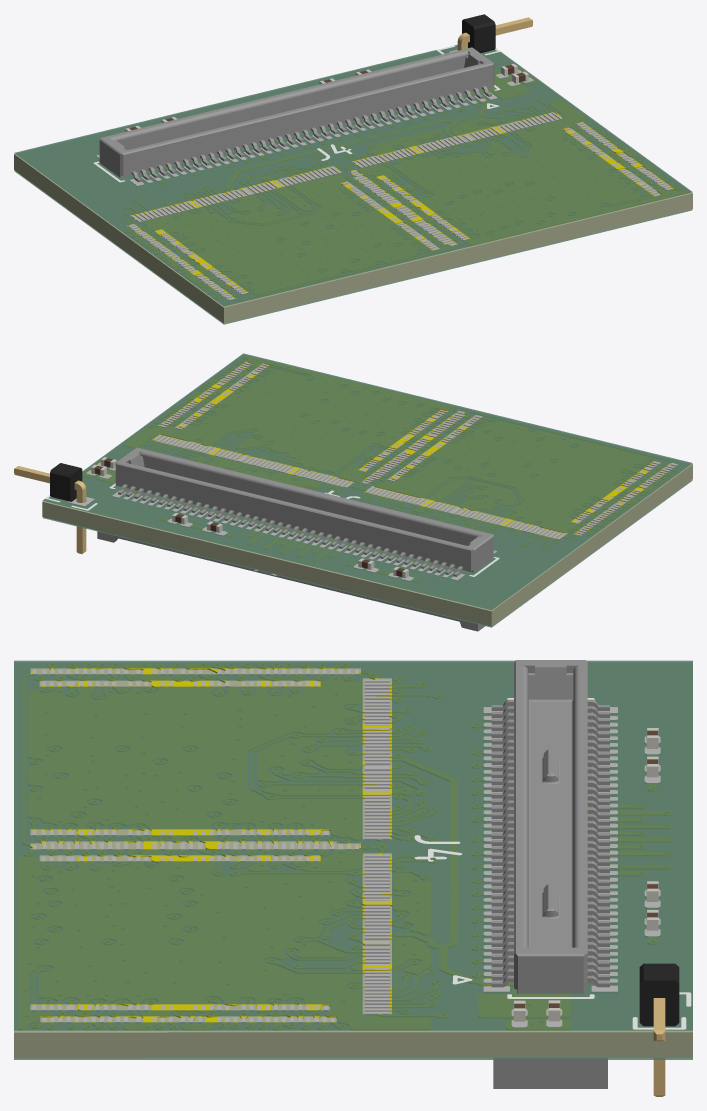
Rendered from asic-top-v4-0p8mm.glb.
3 views of the same model, one above another, from view 1: azimuth 30°, elevation 25°; view 2: azimuth 150°, elevation 25°; view 3: azimuth 270°, elevation 25° (orthographic). The views are drawn at different scales.
Parts seen in each view (by area): view 1: =>[0:1:1:15], =>[0:1:1:10], =>[0:1:1:17], =>[0:1:1:3], =>[0:1:1:11], =>[0:1:1:7], =>[0:1:1:16]; view 2: =>[0:1:1:15], =>[0:1:1:10], =>[0:1:1:17], =>[0:1:1:3], =>[0:1:1:11], =>[0:1:1:7], =>[0:1:1:9], =>[0:1:1:16]; view 3: =>[0:1:1:15], =>[0:1:1:10], =>[0:1:1:17], =>[0:1:1:3], =>[0:1:1:11], =>[0:1:1:9], =>[0:1:1:7], =>[0:1:1:12], =>[0:1:1:16], =>[0:1:1:13].
Part boxes in pixels (x1=…): =>[0:1:1:15]: x1=14, y1=44, x2=692, y2=306; =>[0:1:1:10]: x1=124, y1=68, x2=687, y2=300; =>[0:1:1:17]: x1=14, y1=46, x2=692, y2=323; =>[0:1:1:3]: x1=99, y1=47, x2=494, y2=182; =>[0:1:1:11]: x1=96, y1=50, x2=671, y2=300; =>[0:1:1:7]: x1=457, y1=14, x2=532, y2=53; =>[0:1:1:16]: x1=14, y1=171, x2=692, y2=324; =>[0:1:1:15]: x1=42, y1=353, x2=692, y2=610; =>[0:1:1:10]: x1=83, y1=356, x2=679, y2=582; =>[0:1:1:17]: x1=42, y1=355, x2=692, y2=626; =>[0:1:1:3]: x1=115, y1=447, x2=493, y2=576; =>[0:1:1:11]: x1=68, y1=362, x2=676, y2=580; =>[0:1:1:7]: x1=14, y1=463, x2=86, y2=554; =>[0:1:1:9]: x1=97, y1=531, x2=485, y2=631; =>[0:1:1:16]: x1=43, y1=480, x2=692, y2=627; =>[0:1:1:15]: x1=14, y1=660, x2=692, y2=1030; =>[0:1:1:10]: x1=18, y1=663, x2=670, y2=1029; =>[0:1:1:17]: x1=14, y1=663, x2=692, y2=1058; =>[0:1:1:3]: x1=491, y1=660, x2=609, y2=993; =>[0:1:1:11]: x1=32, y1=669, x2=660, y2=1027; =>[0:1:1:9]: x1=493, y1=1058, x2=607, y2=1088; =>[0:1:1:7]: x1=639, y1=963, x2=679, y2=1096; =>[0:1:1:12]: x1=23, y1=664, x2=668, y2=1027; =>[0:1:1:16]: x1=14, y1=1058, x2=692, y2=1059; =>[0:1:1:13]: x1=414, y1=698, x2=691, y2=1029.
Bounding box in the file's own units: 0.0238 × 0.00377 × 0.017.
